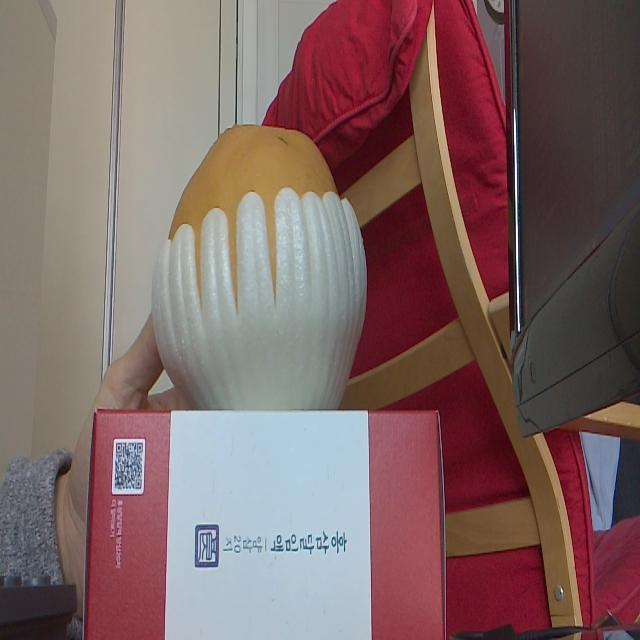pear: (163, 123, 358, 410)
